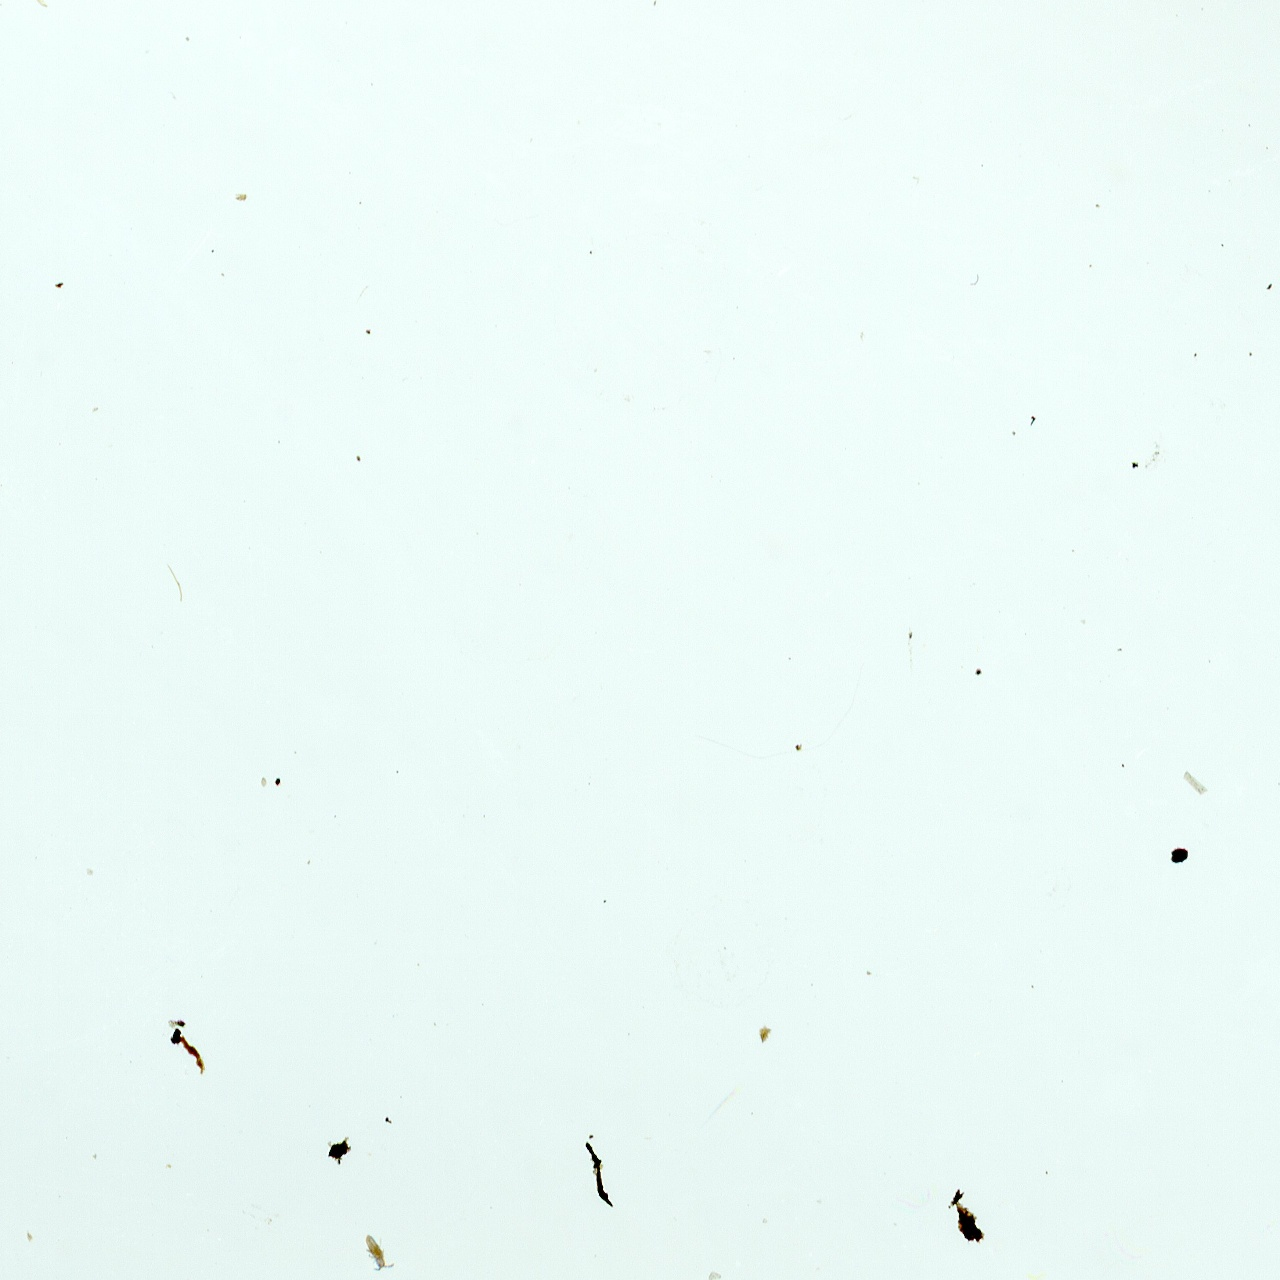arthropod: (355, 1226, 400, 1280)
